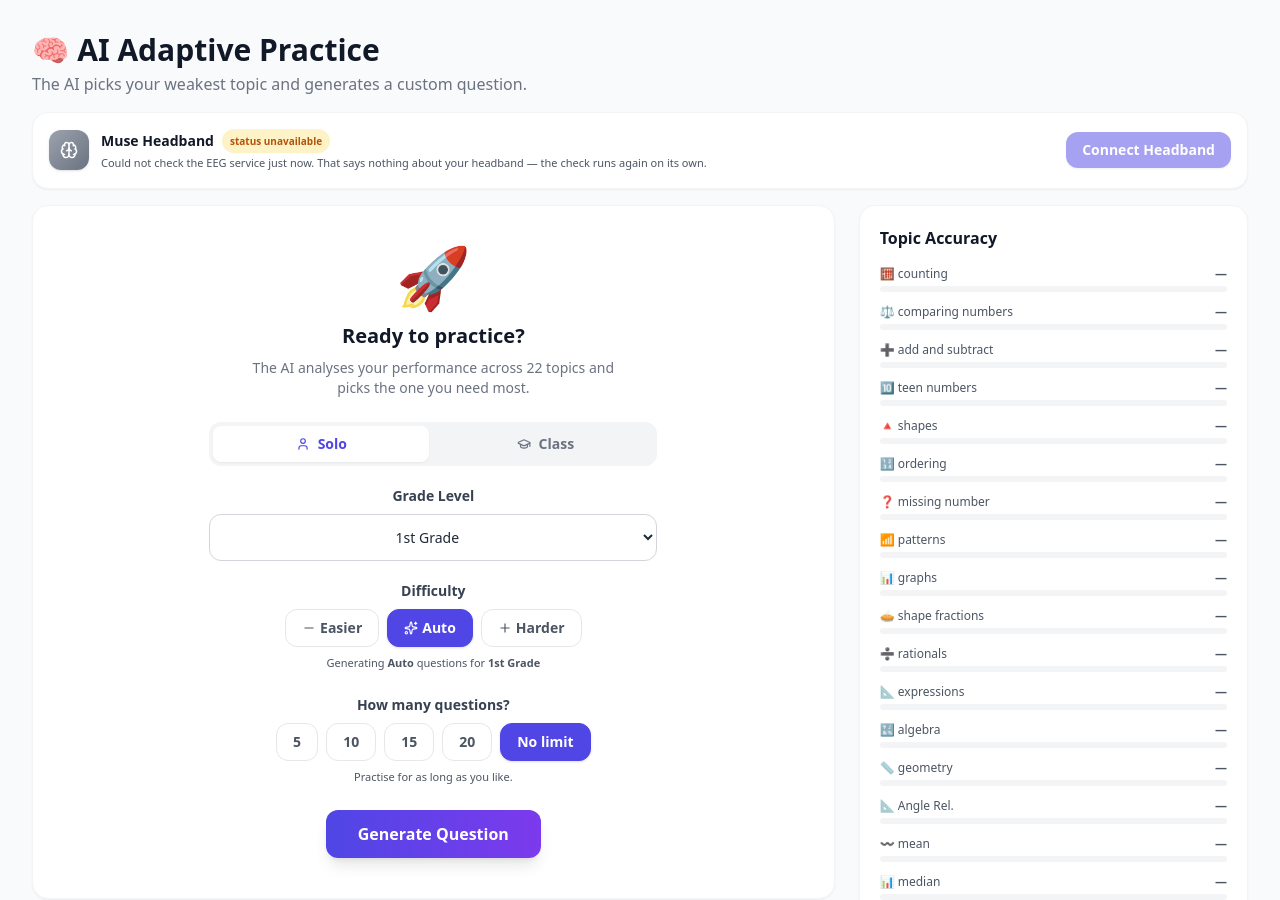
Test: leaves the refusal standing when the status tick did not answer either
Step 1. Click the button "Generate Question" → (433, 834), box [326,810,541,858]
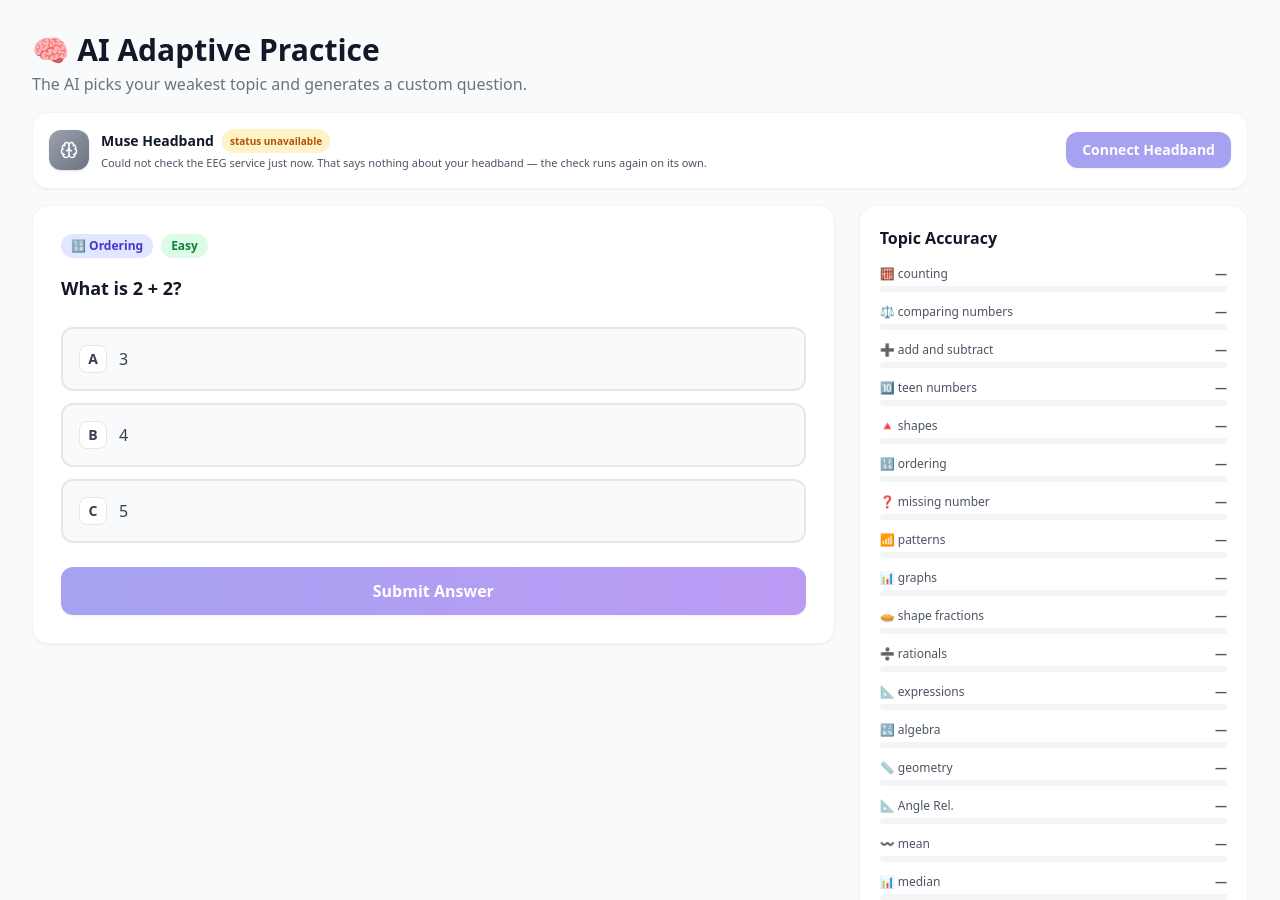
expect the text "status unavailable" is shown: met, box [222,129,330,153]
expect the text "What is 2 + 2?" is shown: met, box [61,276,182,300]
